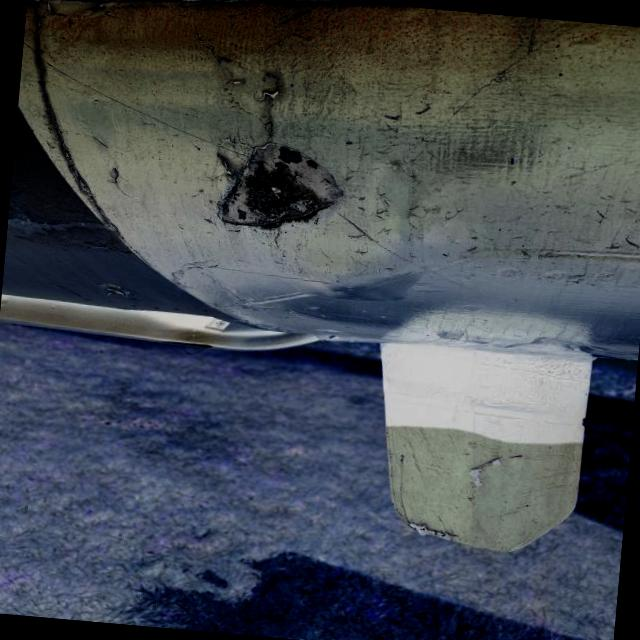crack: (220, 63, 287, 111)
dent: (196, 138, 349, 244)
